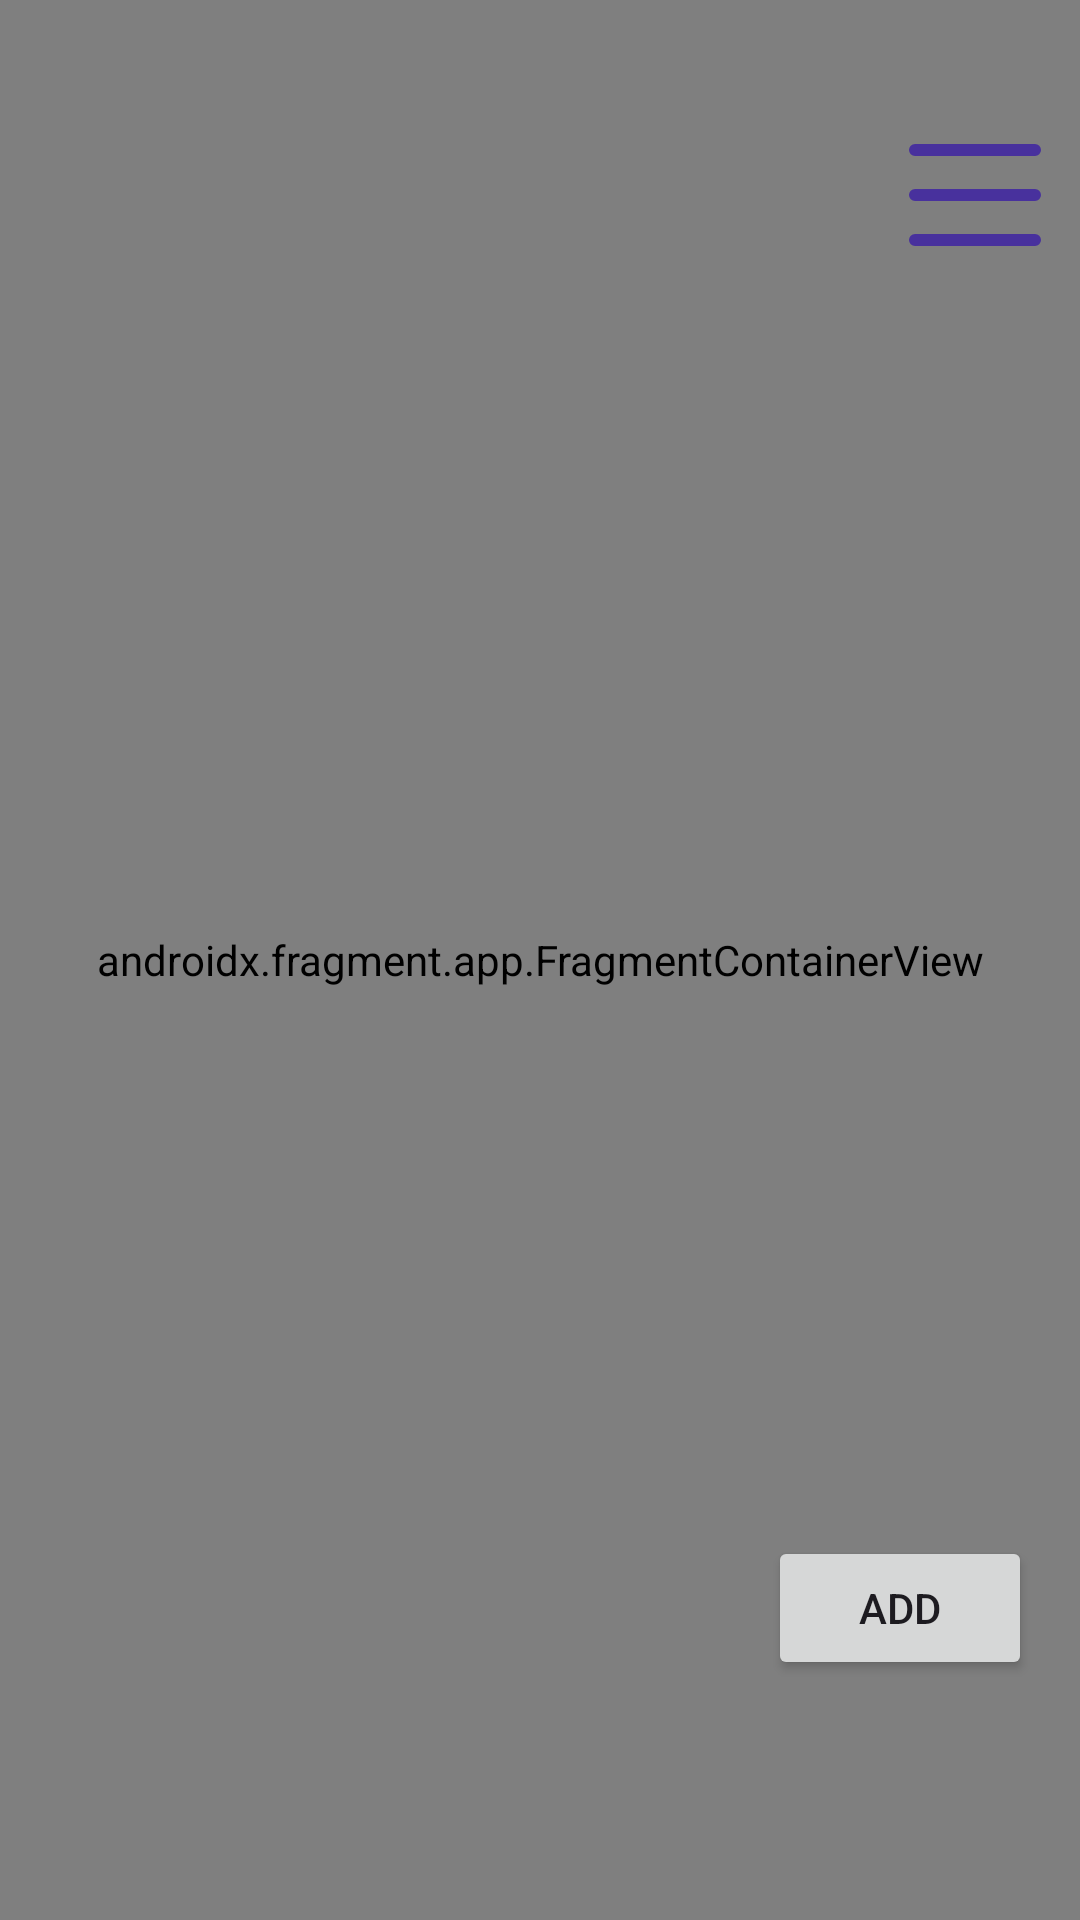

Named icons in this screenshot (1080×1920) and their centers, point (x, y):
Menu Map Options: point (975, 195)
